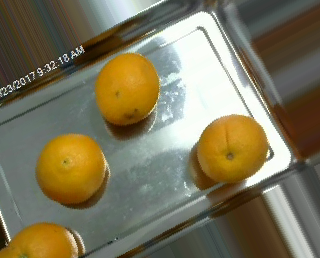Orange: (34, 132, 105, 206), (193, 112, 268, 182), (94, 52, 161, 125)
